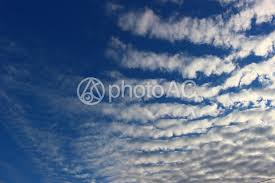sky: (2, 1, 274, 183)
